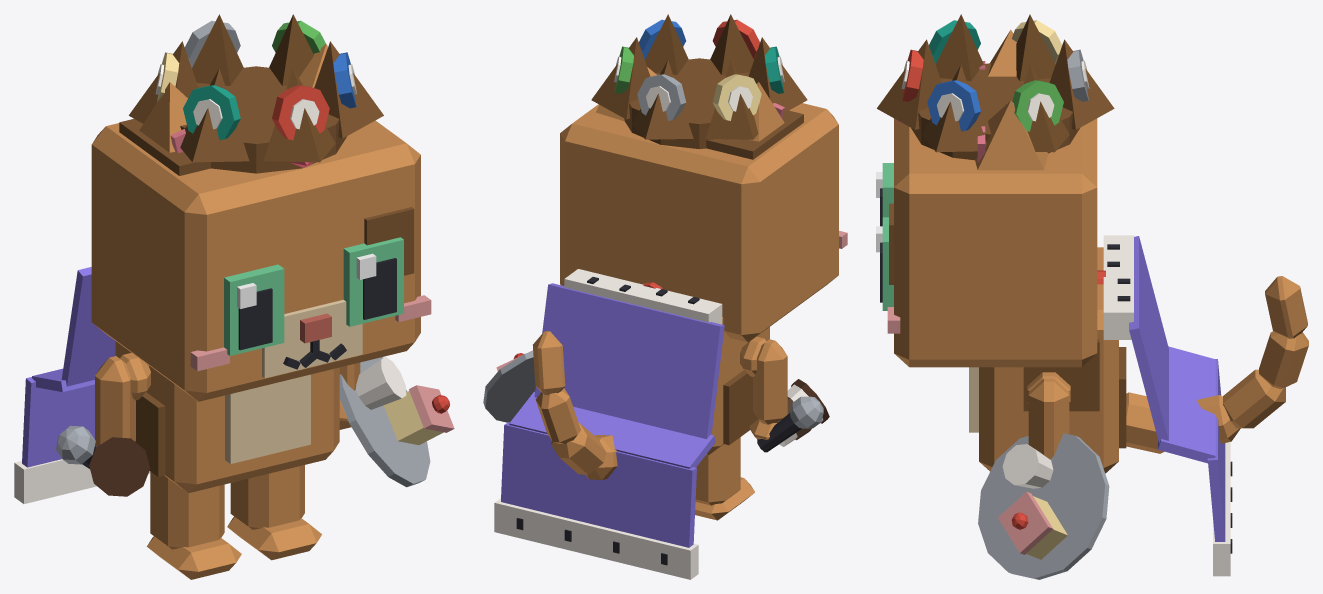
Rendered from CatCafe_Cat_Bottlecap_Work.fbx.
3 views of the same model, side by side, from view 1: azimuth 30°, elevation 25°; view 2: azimuth 150°, elevation 25°; view 3: azimuth 270°, elevation 25° (orthographic). The views are drawn at different scales.
Parts seen in each view (by area): view 1: CatCafe_Cat_Bottlecap_Work_Head, CatCafe_Cat_Bottlecap_Work_Prop, CatCafe_Cat_Bottlecap_Work_Body, CatCafe_Cat_Bottlecap_Work_Prop2, CatCafe_Cat_Bottlecap_Work_Held_Waiter, CatCafe_Cat_Bottlecap_Work_LegB2, CatCafe_Cat_Bottlecap_Work_LegB1, CatCafe_Cat_Bottlecap_Work_Eye2, CatCafe_Cat_Bottlecap_Work_Eye1, CatCafe_Cat_Bottlecap_Work_LegF2, CatCafe_Cat_Bottlecap_Work_Held_Barista, CatCafe_Cat_Bottlecap_Work_EarR (+3 smaller); view 2: CatCafe_Cat_Bottlecap_Work_Head, CatCafe_Cat_Bottlecap_Work_Prop2, CatCafe_Cat_Bottlecap_Work_Prop, CatCafe_Cat_Bottlecap_Work_Tail, CatCafe_Cat_Bottlecap_Work_Body, CatCafe_Cat_Bottlecap_Work_LegB2, CatCafe_Cat_Bottlecap_Work_LegF2, CatCafe_Cat_Bottlecap_Work_Held_Waiter, CatCafe_Cat_Bottlecap_Work_Held_Entertainer, CatCafe_Cat_Bottlecap_Work_EarR, CatCafe_Cat_Bottlecap_Work_Held_Barista; view 3: CatCafe_Cat_Bottlecap_Work_Head, CatCafe_Cat_Bottlecap_Work_Prop, CatCafe_Cat_Bottlecap_Work_Prop2, CatCafe_Cat_Bottlecap_Work_Held_Waiter, CatCafe_Cat_Bottlecap_Work_Body, CatCafe_Cat_Bottlecap_Work_Tail, CatCafe_Cat_Bottlecap_Work_EarL, CatCafe_Cat_Bottlecap_Work_LegF1, CatCafe_Cat_Bottlecap_Work_Eye1, CatCafe_Cat_Bottlecap_Work_EarR, CatCafe_Cat_Bottlecap_Work_Eye2.
Part boxes in pixels (left/top/right/bottom): CatCafe_Cat_Bottlecap_Work_Head: left=91, top=119, right=431, bottom=401; CatCafe_Cat_Bottlecap_Work_Prop: left=129, top=14, right=383, bottom=173; CatCafe_Cat_Bottlecap_Work_Body: left=115, top=341, right=339, bottom=493; CatCafe_Cat_Bottlecap_Work_Prop2: left=14, top=267, right=150, bottom=503; CatCafe_Cat_Bottlecap_Work_Held_Waiter: left=339, top=357, right=454, bottom=487; CatCafe_Cat_Bottlecap_Work_LegB2: left=147, top=471, right=241, bottom=579; CatCafe_Cat_Bottlecap_Work_LegB1: left=227, top=465, right=321, bottom=560; CatCafe_Cat_Bottlecap_Work_Eye2: left=224, top=264, right=284, bottom=355; CatCafe_Cat_Bottlecap_Work_Eye1: left=343, top=237, right=403, bottom=326; CatCafe_Cat_Bottlecap_Work_LegF2: left=95, top=356, right=135, bottom=446; CatCafe_Cat_Bottlecap_Work_Held_Barista: left=89, top=437, right=150, bottom=496; CatCafe_Cat_Bottlecap_Work_EarR: left=139, top=82, right=187, bottom=153; CatCafe_Cat_Bottlecap_Work_Head: left=560, top=103, right=847, bottom=342; CatCafe_Cat_Bottlecap_Work_Prop2: left=494, top=269, right=724, bottom=579; CatCafe_Cat_Bottlecap_Work_Prop: left=591, top=14, right=807, bottom=149; CatCafe_Cat_Bottlecap_Work_Tail: left=533, top=331, right=617, bottom=479; CatCafe_Cat_Bottlecap_Work_Body: left=706, top=317, right=769, bottom=455; CatCafe_Cat_Bottlecap_Work_LegB2: left=695, top=437, right=754, bottom=520; CatCafe_Cat_Bottlecap_Work_LegF2: left=749, top=339, right=787, bottom=439; CatCafe_Cat_Bottlecap_Work_Held_Waiter: left=483, top=350, right=535, bottom=422; CatCafe_Cat_Bottlecap_Work_Held_Entertainer: left=757, top=396, right=823, bottom=452; CatCafe_Cat_Bottlecap_Work_EarR: left=749, top=82, right=784, bottom=141; CatCafe_Cat_Bottlecap_Work_Held_Barista: left=779, top=379, right=829, bottom=446; CatCafe_Cat_Bottlecap_Work_Head: left=887, top=118, right=1097, bottom=367; CatCafe_Cat_Bottlecap_Work_Prop: left=877, top=14, right=1114, bottom=160; CatCafe_Cat_Bottlecap_Work_Prop2: left=1097, top=235, right=1232, bottom=576; CatCafe_Cat_Bottlecap_Work_Held_Waiter: left=978, top=433, right=1109, bottom=579; CatCafe_Cat_Bottlecap_Work_Body: left=969, top=247, right=1126, bottom=473; CatCafe_Cat_Bottlecap_Work_Tail: left=1126, top=276, right=1308, bottom=453; CatCafe_Cat_Bottlecap_Work_EarL: left=975, top=101, right=1048, bottom=170; CatCafe_Cat_Bottlecap_Work_LegF1: left=1028, top=378, right=1069, bottom=459; CatCafe_Cat_Bottlecap_Work_Eye1: left=876, top=217, right=893, bottom=310; CatCafe_Cat_Bottlecap_Work_EarR: left=979, top=29, right=1016, bottom=76; CatCafe_Cat_Bottlecap_Work_Eye2: left=876, top=163, right=893, bottom=226.
Bounding box in the file's own units: 1.53 × 2.03 × 1.62.
Materials: 1 (1 with a texture image).
